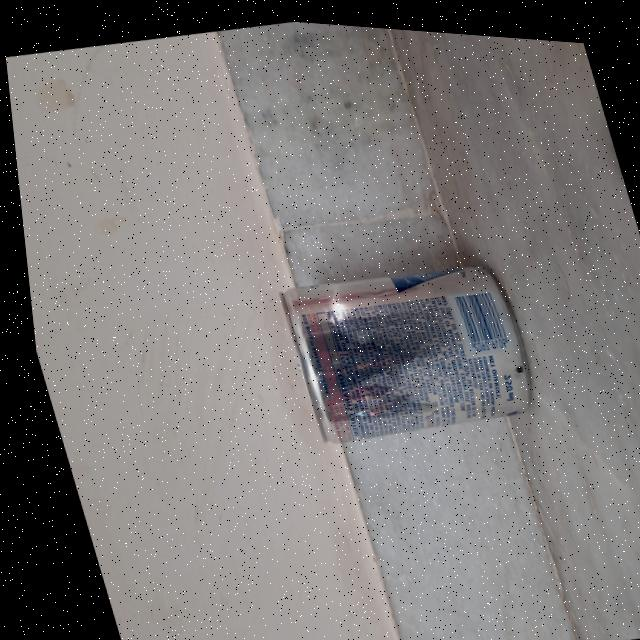Redbul: (247, 211, 556, 475)
